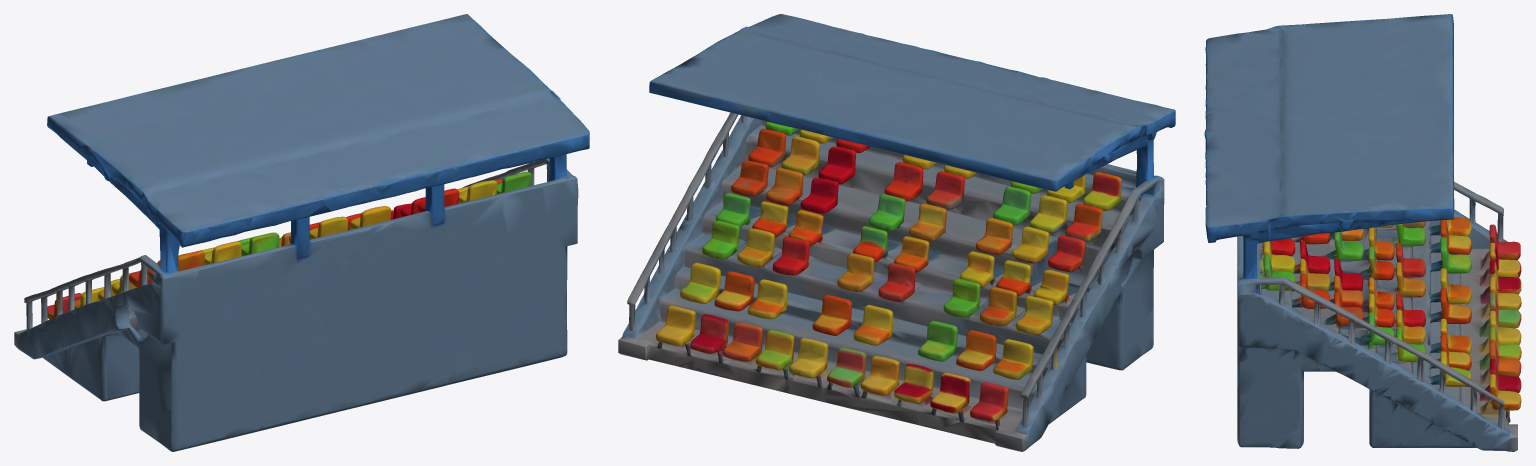
File: grandstand.glb
3 views of the same model, side by side, from view 1: azimuth 30°, elevation 25°; view 2: azimuth 150°, elevation 25°; view 3: azimuth 270°, elevation 25° (orthographic). The views are drawn at different scales.
Visible parts, largest first — view 1: tripo_node_633fd0e1-dd51-4b60-a0a3-dd209a25cfc4; view 2: tripo_node_633fd0e1-dd51-4b60-a0a3-dd209a25cfc4; view 3: tripo_node_633fd0e1-dd51-4b60-a0a3-dd209a25cfc4.
Boxes of the visible parts, <box> form: tripo_node_633fd0e1-dd51-4b60-a0a3-dd209a25cfc4: <box>14,14,589,451</box>; tripo_node_633fd0e1-dd51-4b60-a0a3-dd209a25cfc4: <box>618,14,1175,451</box>; tripo_node_633fd0e1-dd51-4b60-a0a3-dd209a25cfc4: <box>1204,14,1521,451</box>.
Bounding box in the file's own units: 0.9996 × 0.5901 × 0.6866.
Materials: 1 (1 with a texture image).
